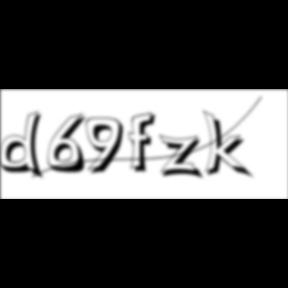6: (48, 112, 92, 176)
9: (86, 117, 130, 177)
d: (0, 110, 50, 182)
f: (128, 111, 162, 175)
k: (202, 108, 255, 181)
z: (158, 134, 207, 182)
